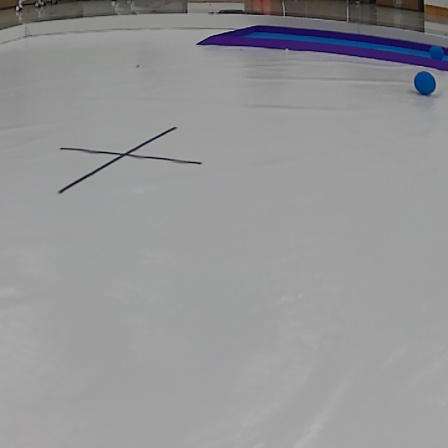blue: (412, 67, 441, 100), (430, 46, 447, 60)
blue_aim: (195, 22, 448, 75)
